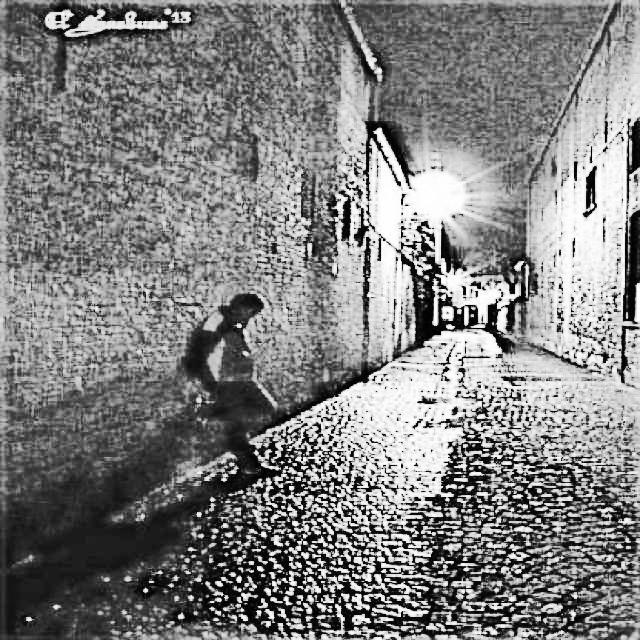Person: (181, 288, 281, 479)
